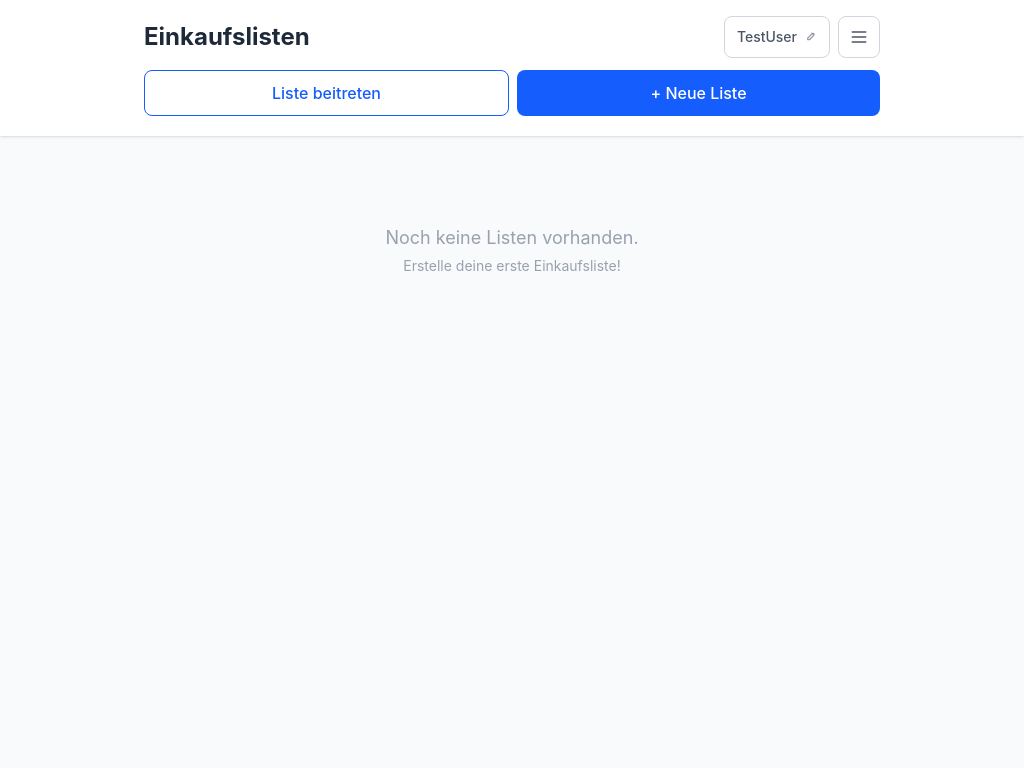
Test case: Benutzername ändern › zeigt Fehlermeldung wenn der Name ein # enthält
Click the button with test id "rename-username-btn" at (777, 37), box [724,16,830,58]
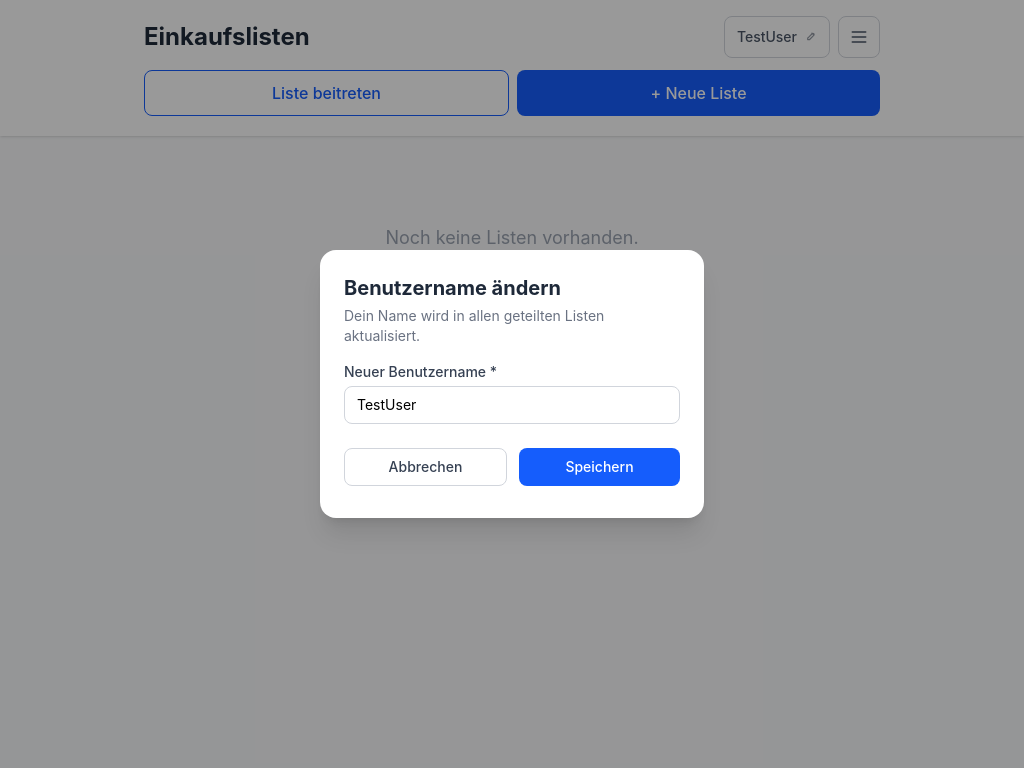
Replace the text in the field with test id "rename-input" with "Ungültig#Name" at (512, 405), box [344,386,680,424]
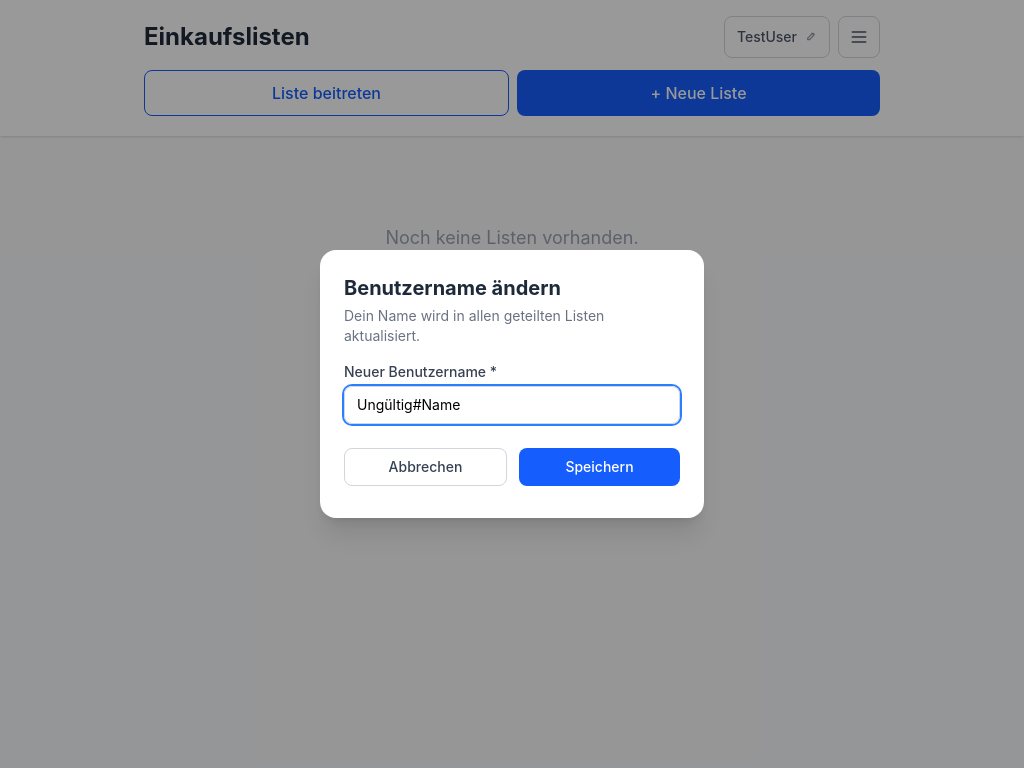
Click the button with test id "rename-submit" at (600, 467), box [519,448,680,486]
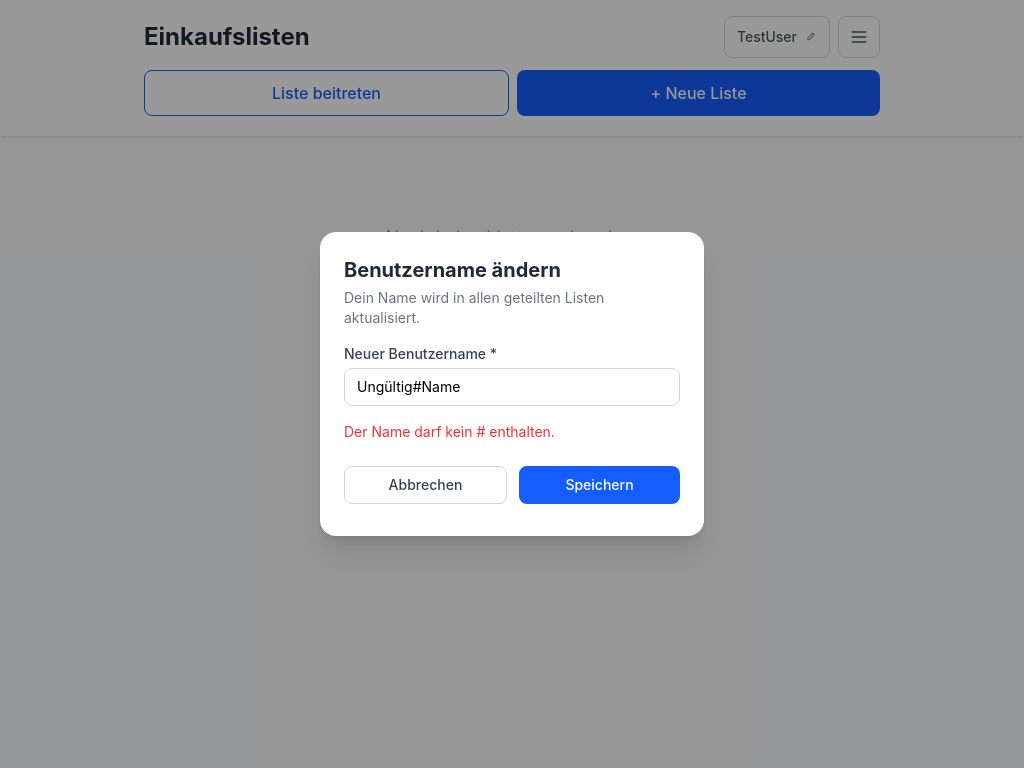
Check: the element with test id "rename-modal" is shown
Check: the text "Der Name darf kein # enthalten." is shown, box [344,423,555,440]
